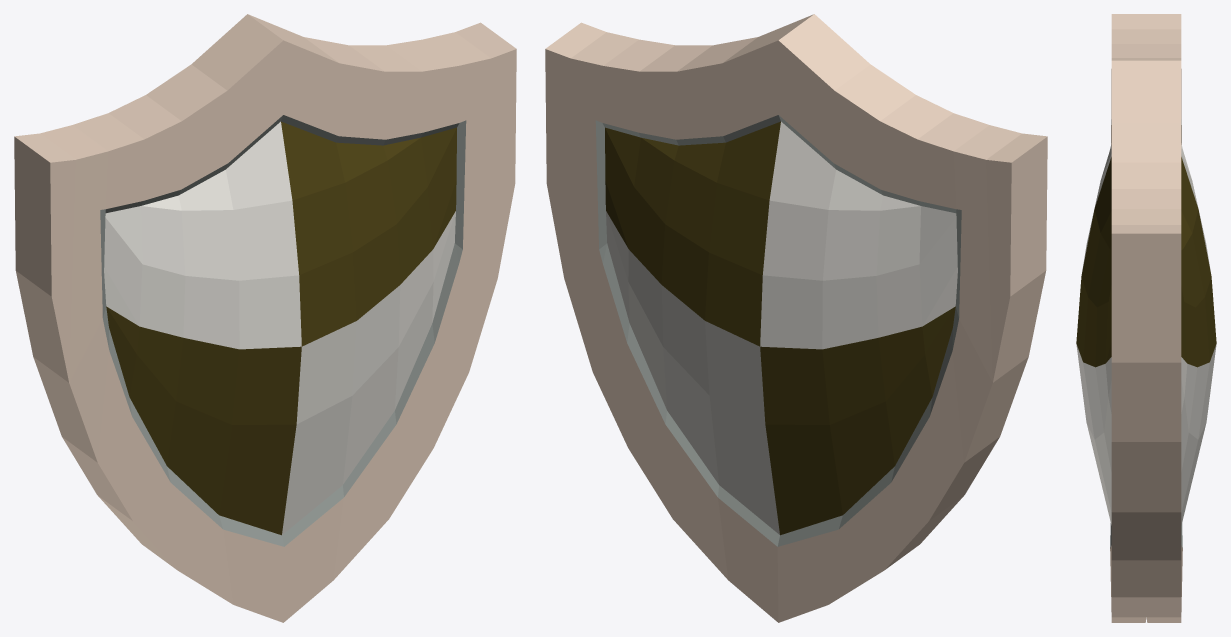
The model's file is Shield_Red.fbx.
3 views of the same model, side by side, from view 1: azimuth 30°, elevation 25°; view 2: azimuth 150°, elevation 25°; view 3: azimuth 270°, elevation 25° (orthographic). The views are drawn at different scales.
Visible parts, largest first — view 1: Shield; view 2: Shield; view 3: Shield.
Boxes of the visible parts, <box> form: Shield: <box>14,14,516,622</box>; Shield: <box>545,14,1047,622</box>; Shield: <box>1076,14,1216,622</box>.
Bounding box in the file's own units: 58.34 × 15.75 × 69.63.
